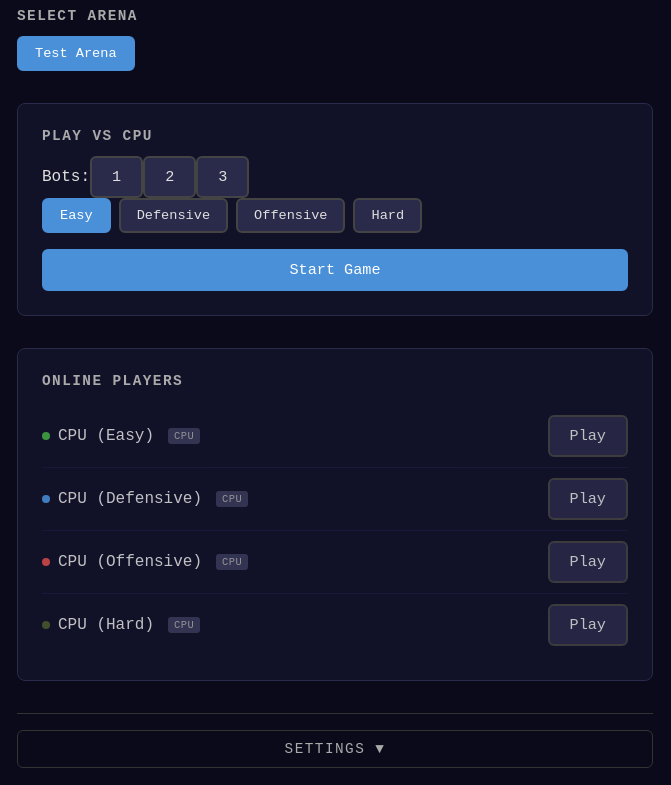
Scenario: LobbyPage › toggling SFX mute shows OFF and persists to localStorage
(page scrolled)
Click the button "Settings ▼": (335, 749) [17, 730, 653, 768]
(page scrolled)
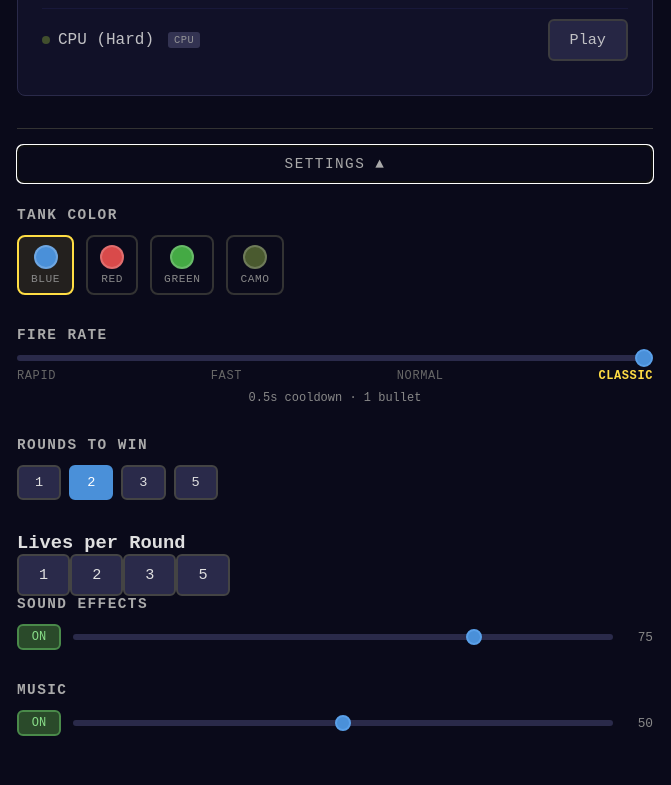
Click the button titled "Mute SFX" in the row of "75": (39, 637) [17, 624, 61, 650]
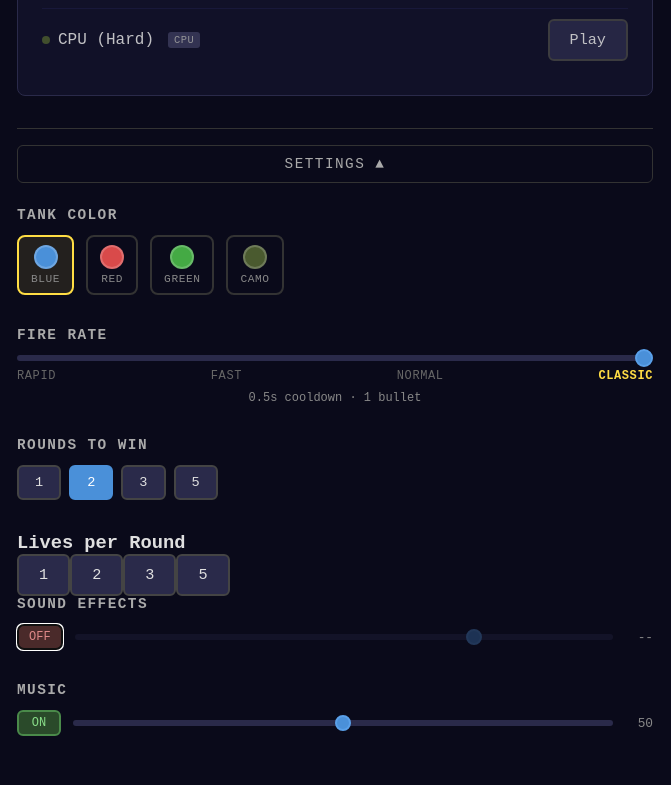
Expected: the button titled "Mute SFX" reads "OFF", [17, 624, 63, 650]
